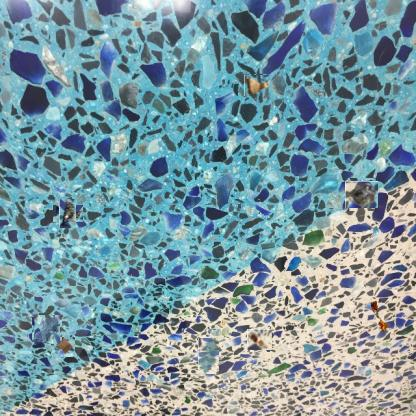dirty: (346, 180, 377, 209), (368, 299, 390, 333), (56, 202, 80, 225), (244, 74, 269, 96), (248, 328, 271, 351), (51, 335, 75, 357)
liquid: (33, 315, 61, 343), (198, 338, 219, 374)
